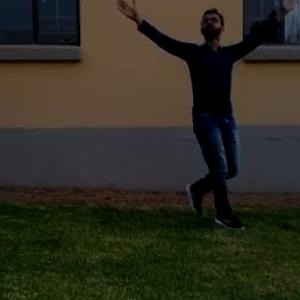takeoff: (114, 0, 299, 227)
